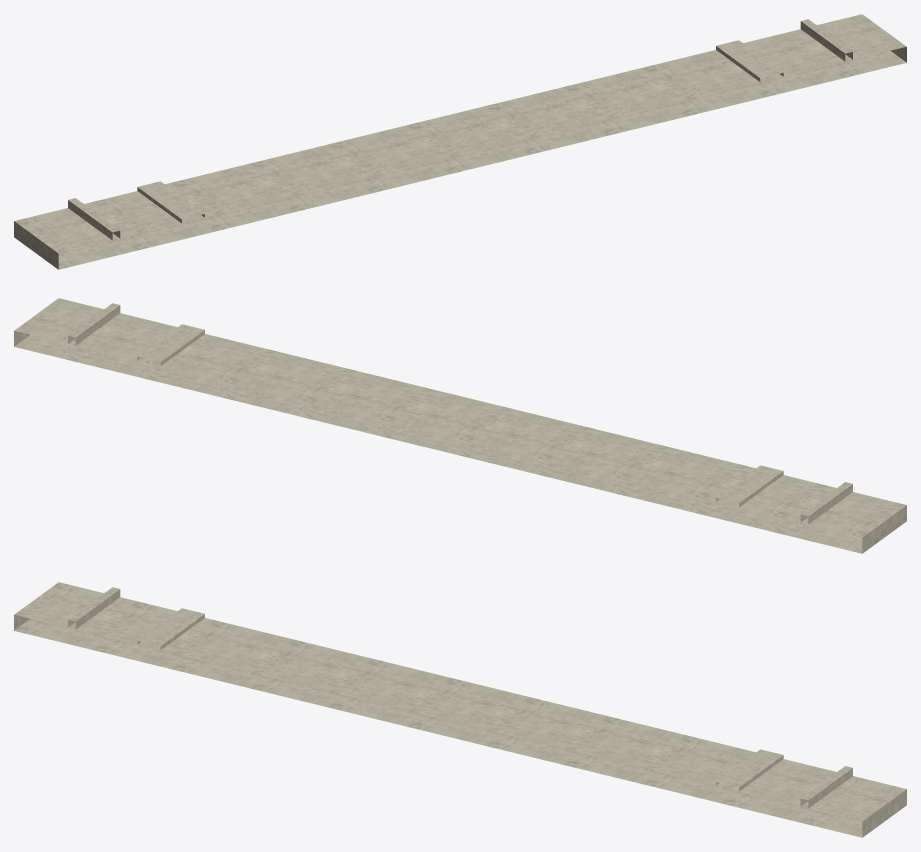
File: SuspBridgeBase-6L.FBX
3 views of the same model, one above another, from view 1: azimuth 30°, elevation 25°; view 2: azimuth 150°, elevation 25°; view 3: azimuth 330°, elevation 25° (orthographic).
Visible parts, largest first — view 1: SuspBridgeBase-6L; view 2: SuspBridgeBase-6L; view 3: SuspBridgeBase-6L.
Part boxes in pixels (x1,y1,x2,y2): SuspBridgeBase-6L: [14, 14, 906, 269]; SuspBridgeBase-6L: [14, 298, 906, 553]; SuspBridgeBase-6L: [14, 582, 906, 837].
Size of the model in its own units: 55 by 1.5 by 5.
